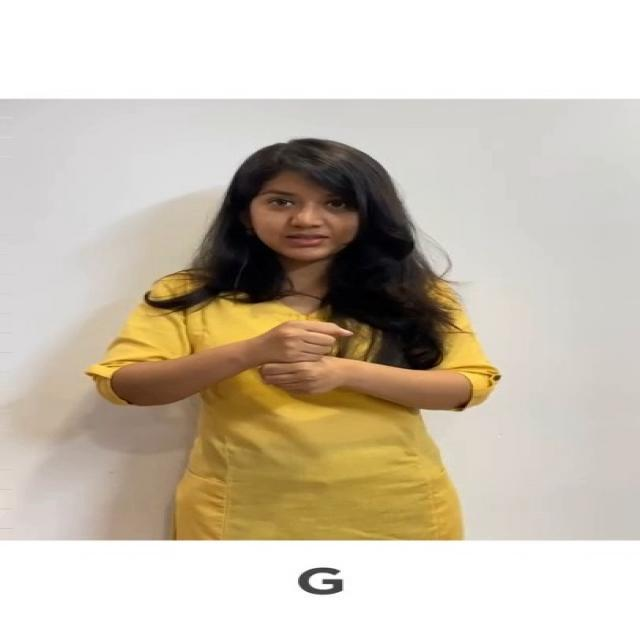G: (226, 310, 384, 413)
